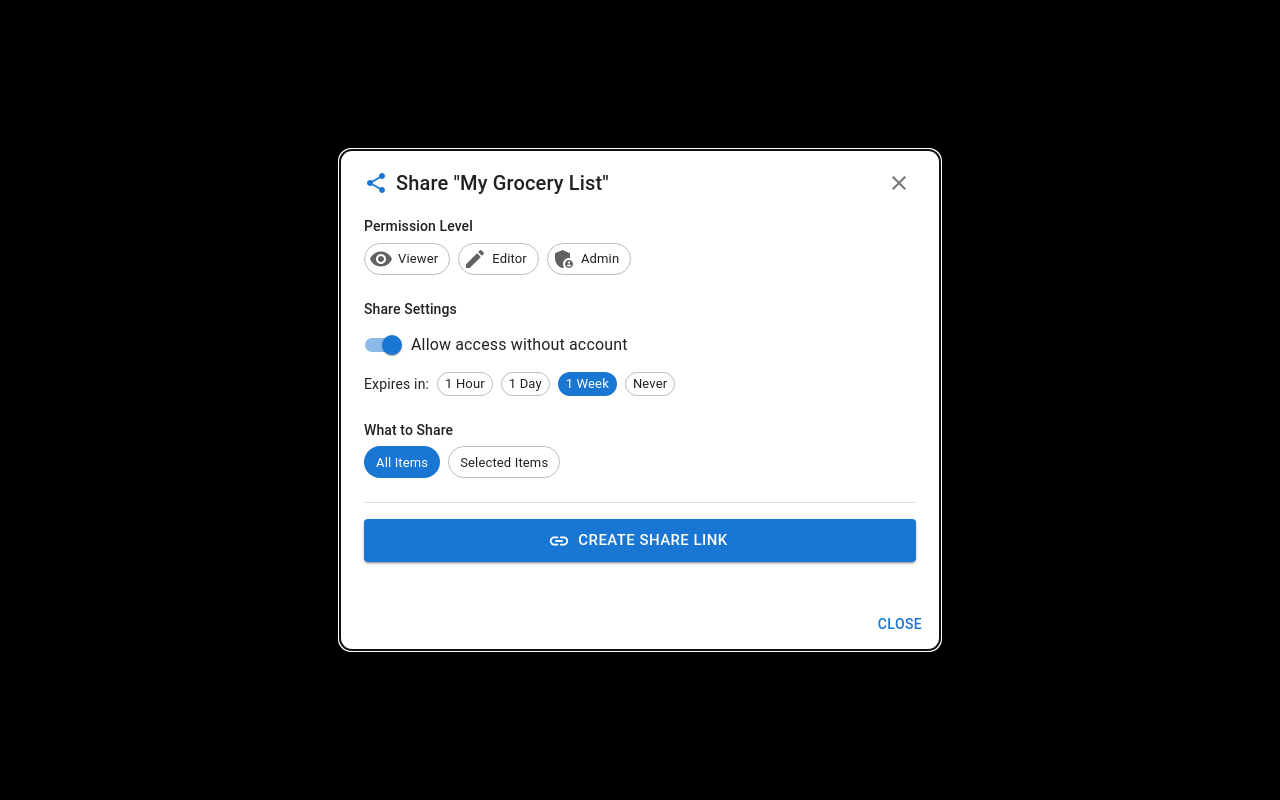
it: SmartShareDialog › Share URL Generation › should handle errors gracefully
Click the button "Create Share Link": (640, 541) [364,519,916,562]
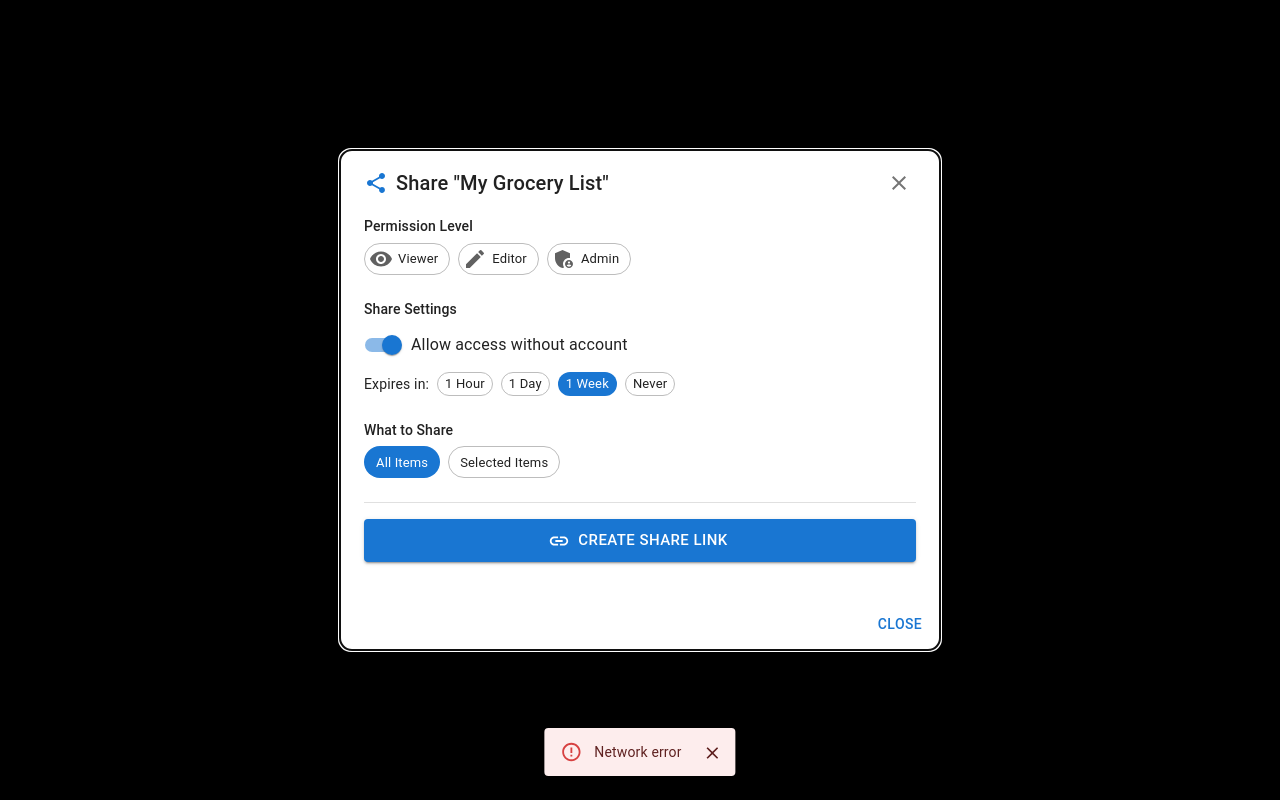
Check: the text "Network error" is shown, box [594,744,682,760]
